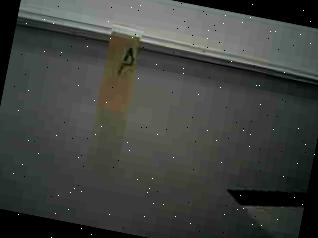Bottle A: (92, 23, 146, 120)
